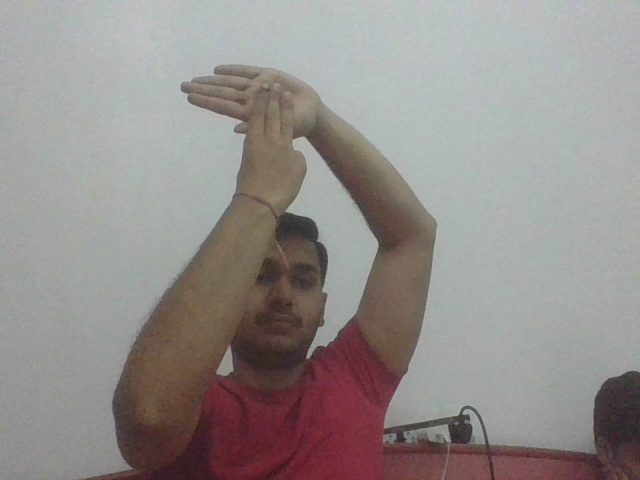M: (179, 62, 314, 157)
